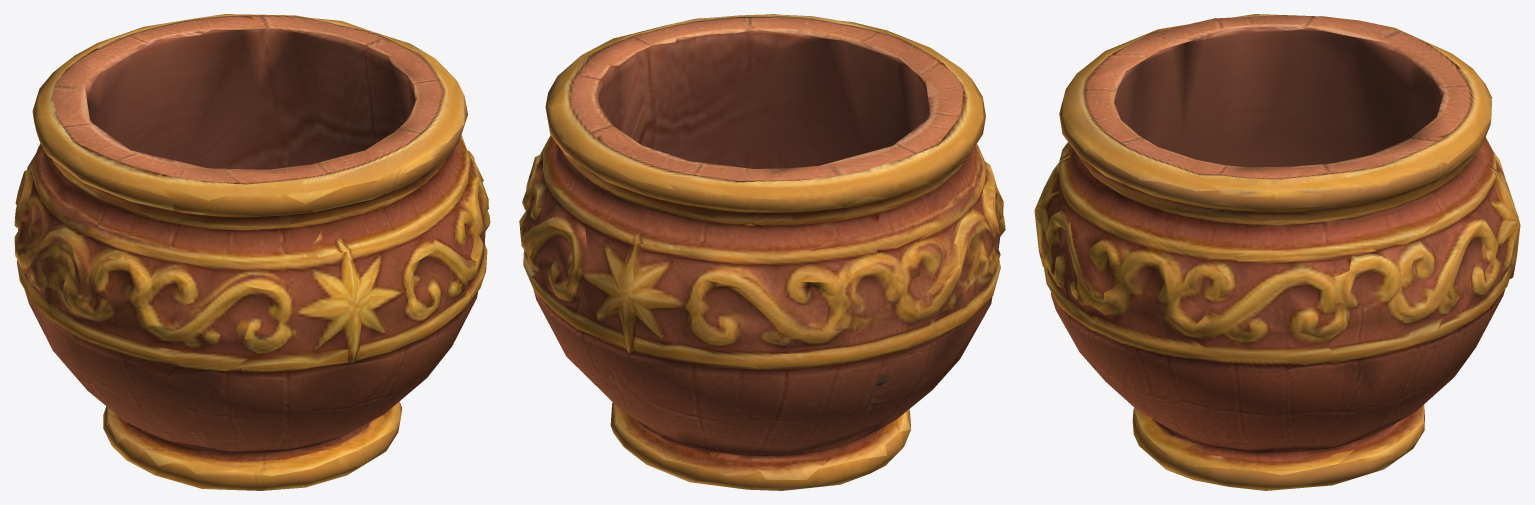
Rendered from pot-round.glb.
3 views of the same model, side by side, from view 1: azimuth 30°, elevation 25°; view 2: azimuth 150°, elevation 25°; view 3: azimuth 270°, elevation 25° (orthographic).
Parts seen in each view (by area): view 1: pot-round; view 2: pot-round; view 3: pot-round.
Part boxes in pixels (x1=…): pot-round: x1=14, y1=14, x2=490, y2=490; pot-round: x1=519, y1=14, x2=1005, y2=490; pot-round: x1=1034, y1=14, x2=1520, y2=490.
Bounding box in the file's own units: 1.27 × 0.9873 × 1.28.
Materials: 1 (1 with a texture image).
